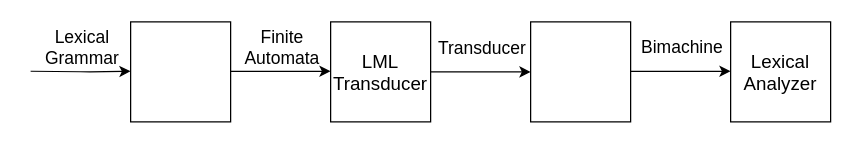
Image size: 853x144. Some labels were removed from this diagram. The box of each missing label's shape, as (x1, y1, x2, y2) in pixels:
Bimachine Builder: (529, 21, 631, 122)
NFA Compiler: (129, 21, 231, 122)
